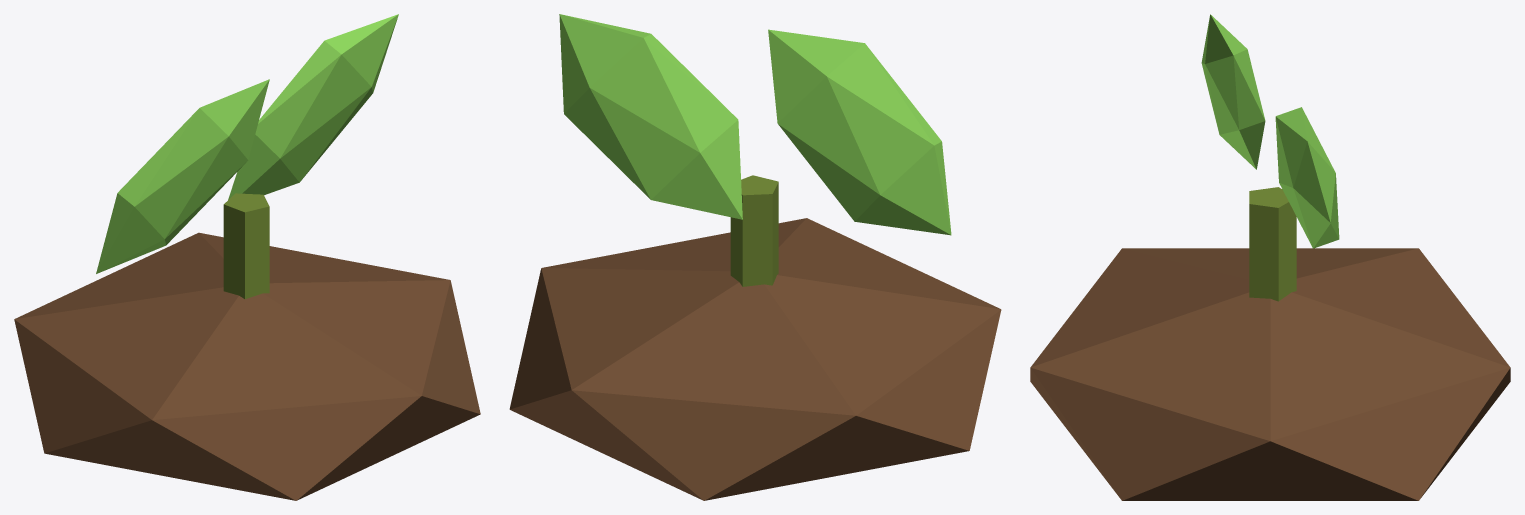
The model's file is crop_carrot_1.glb.
The picture shows the model from 3 angles, left to right: view 1: azimuth 30°, elevation 25°; view 2: azimuth 150°, elevation 25°; view 3: azimuth 270°, elevation 25°; orthographic projection. The views are drawn at different scales.
Visible parts, largest first — view 1: crop_carrot_1; view 2: crop_carrot_1; view 3: crop_carrot_1.
Boxes of the visible parts, bbox=[...] form: crop_carrot_1: bbox=[14, 14, 480, 500]; crop_carrot_1: bbox=[509, 14, 1001, 500]; crop_carrot_1: bbox=[1030, 14, 1510, 500].
Bounding box in the file's own units: 0.3023 × 0.2718 × 0.2875.
